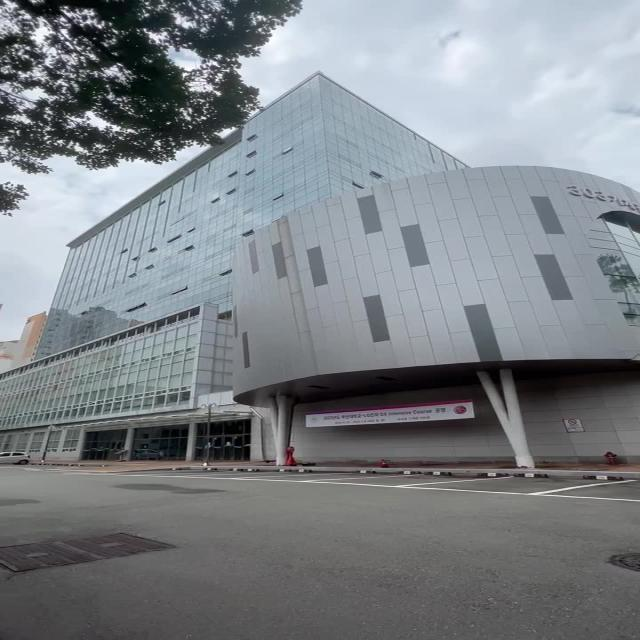building: (43, 180, 599, 395)
